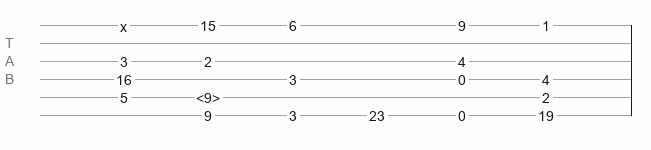0: (458, 108, 466, 118), (458, 72, 466, 82)
1: (542, 18, 550, 28)
15: (200, 18, 216, 28)
16: (116, 72, 132, 82)
19: (538, 108, 554, 118)
2: (204, 54, 212, 64), (542, 90, 550, 100)
23: (369, 108, 385, 118)
3: (120, 54, 128, 64), (289, 72, 297, 82), (289, 108, 297, 118)
4: (458, 54, 466, 64), (542, 72, 550, 82)
5: (120, 90, 128, 100)
6: (289, 18, 297, 28)
9: (204, 108, 212, 118), (458, 18, 466, 28)
harmonic: (196, 90, 220, 100)
x: (120, 19, 127, 27)
